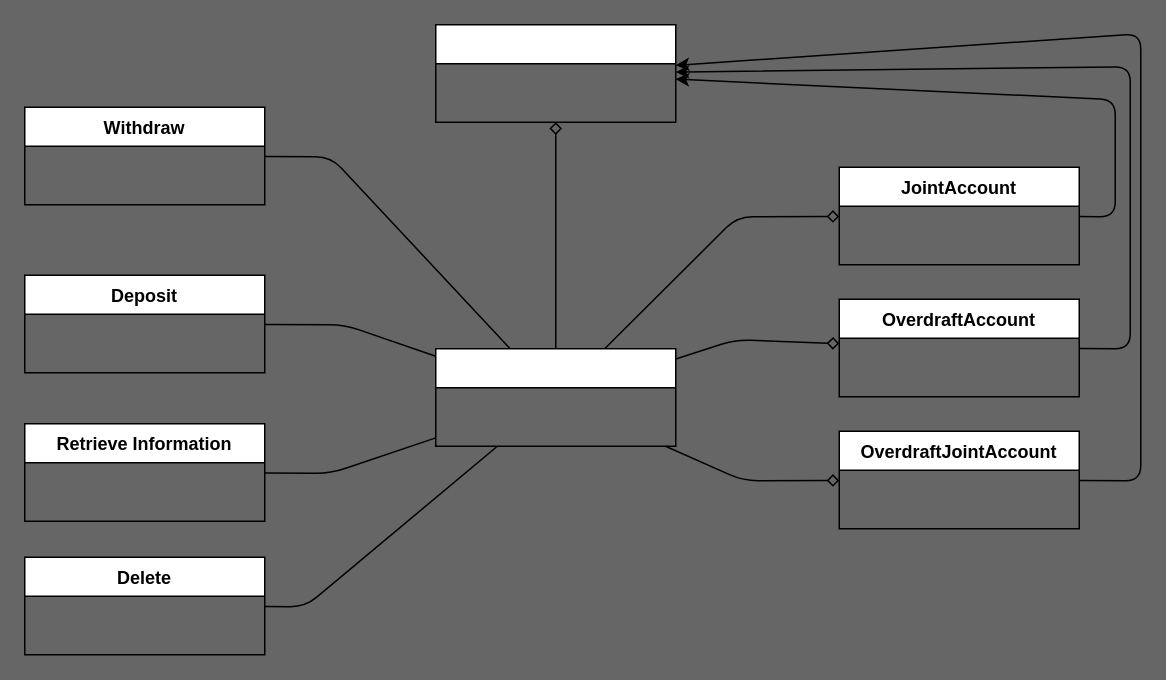
The diagram is 1166 pixels wide and 680 high, and some of its shapes have lost their labels. Each missing label, with the box of its shape:
Account: (434, 23, 676, 122)
User: (434, 347, 676, 446)
